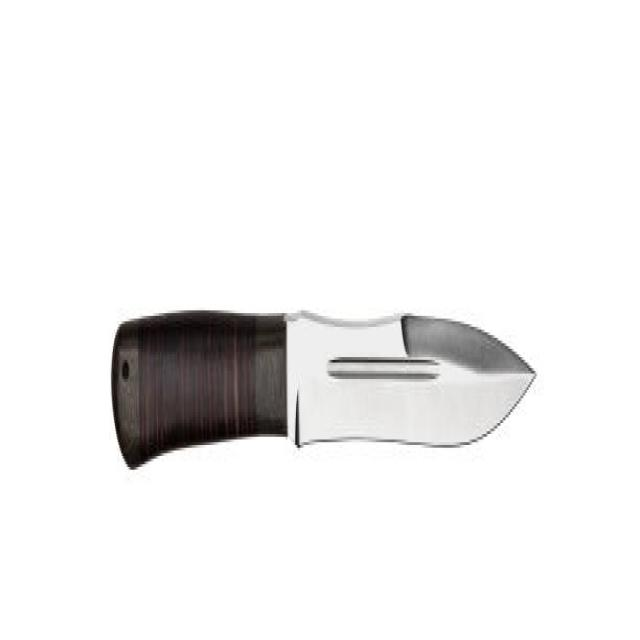knife: (110, 293, 539, 498)
